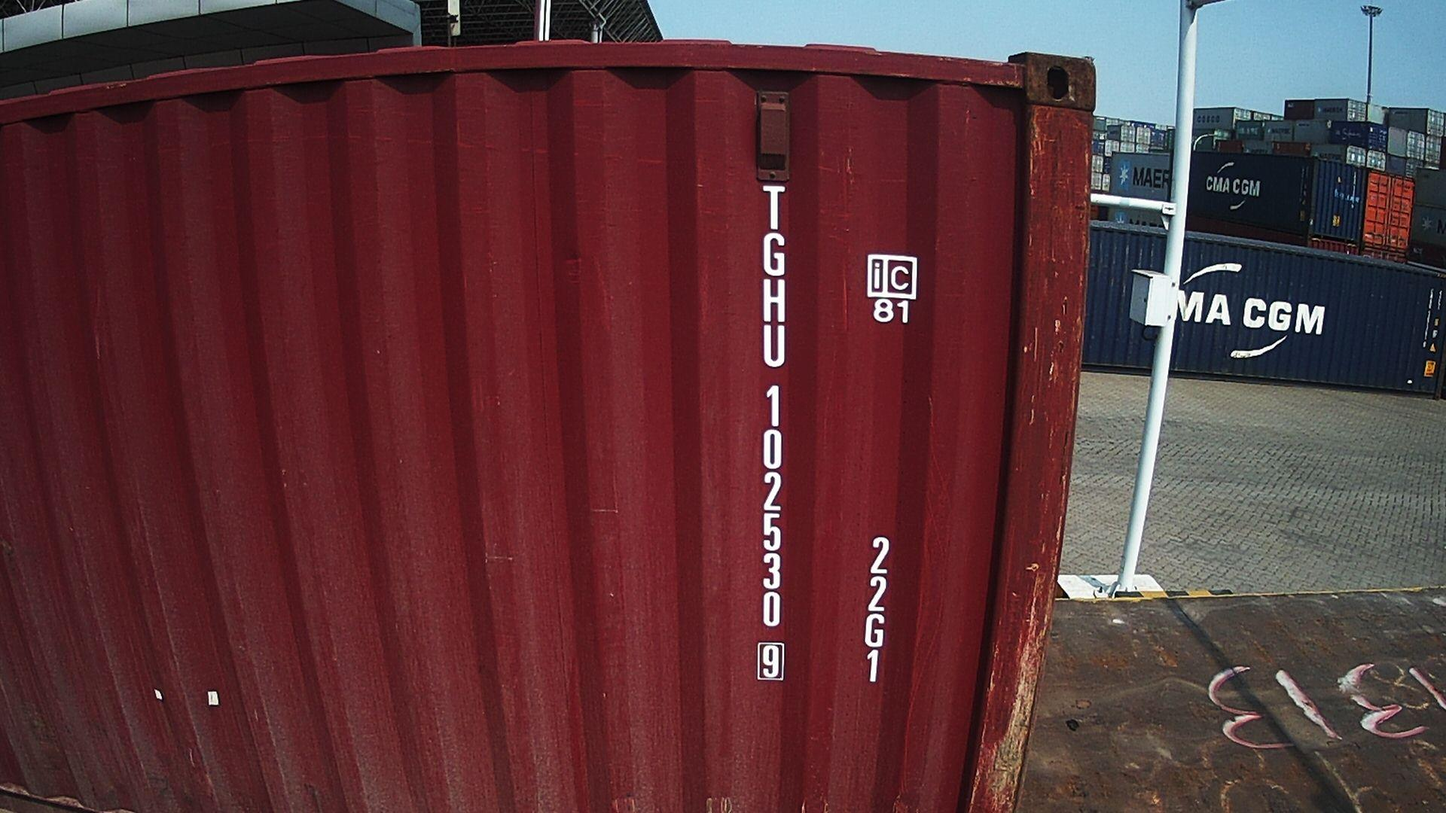container-numbers: (746, 178, 792, 687), (859, 532, 894, 687)
